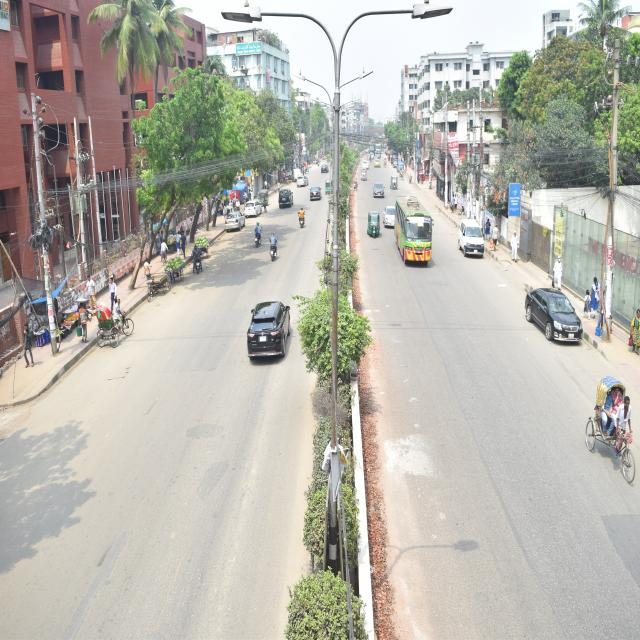bus: (392, 198, 439, 270)
car: (521, 276, 594, 374), (233, 285, 312, 370), (447, 212, 504, 278), (218, 203, 250, 245), (238, 190, 264, 229), (268, 182, 298, 212), (379, 206, 400, 235), (373, 170, 389, 204), (292, 171, 310, 198), (309, 182, 324, 214), (318, 160, 334, 186), (360, 150, 371, 177)
motorbike: (270, 232, 293, 280), (290, 202, 316, 236), (248, 221, 268, 258)
